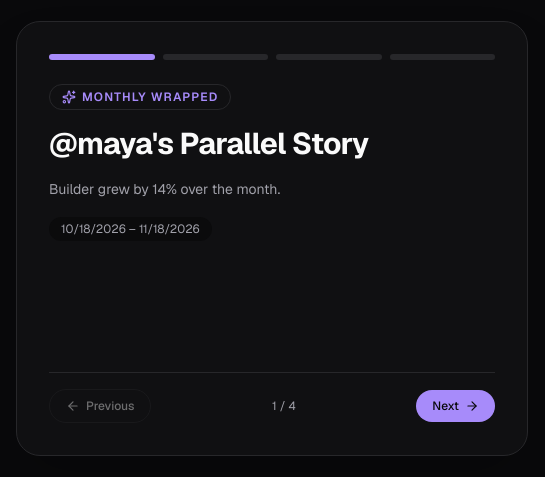
Scenario: PublicWrappedPage › walks through the Wrapped story slides and displays computed highlights
Expected: the heading "@maya's Parallel Story" is shown, [49,124,369,162]
Click the button "Next".
click(456, 406)  # box [416,390,495,422]
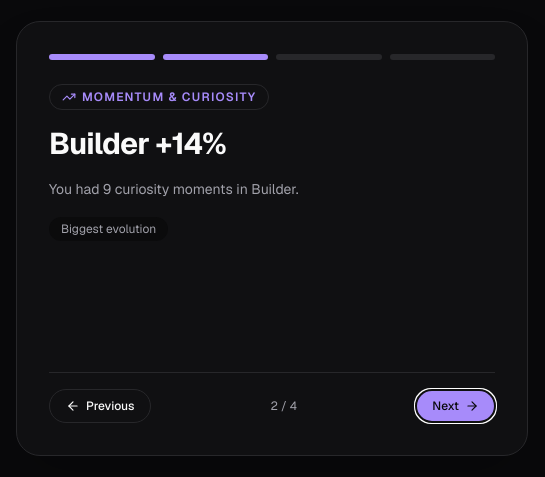
Expected: the heading "Builder +14%" is shown, [49,124,226,162]
Click the button "Next".
click(456, 406)  # box [416,390,495,422]
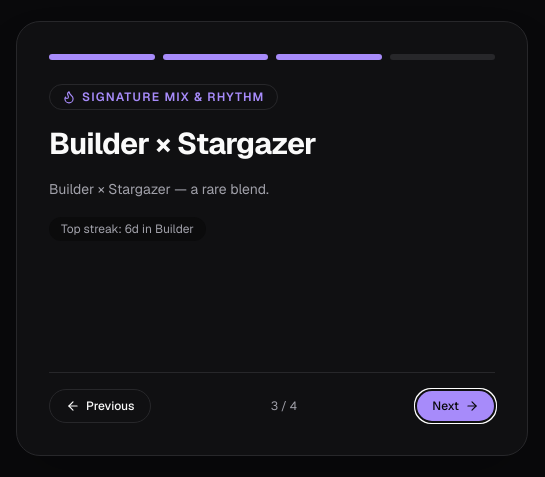
Expected: the heading "Builder × Stargazer" is shown, [49,124,316,162]
Click the button "Next".
click(456, 406)  # box [416,390,495,422]
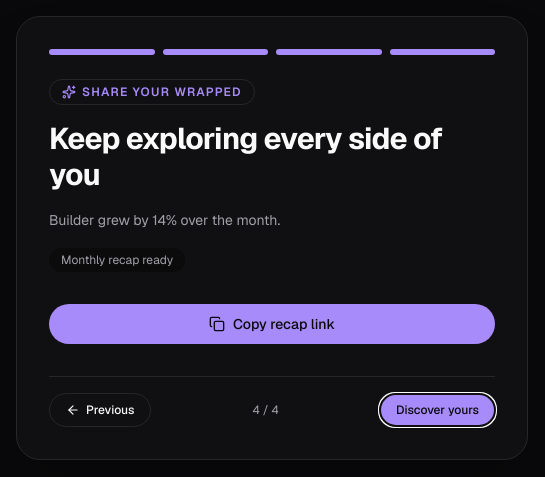
Expected: the button "Copy recap link" is shown, [49,304,495,344]
